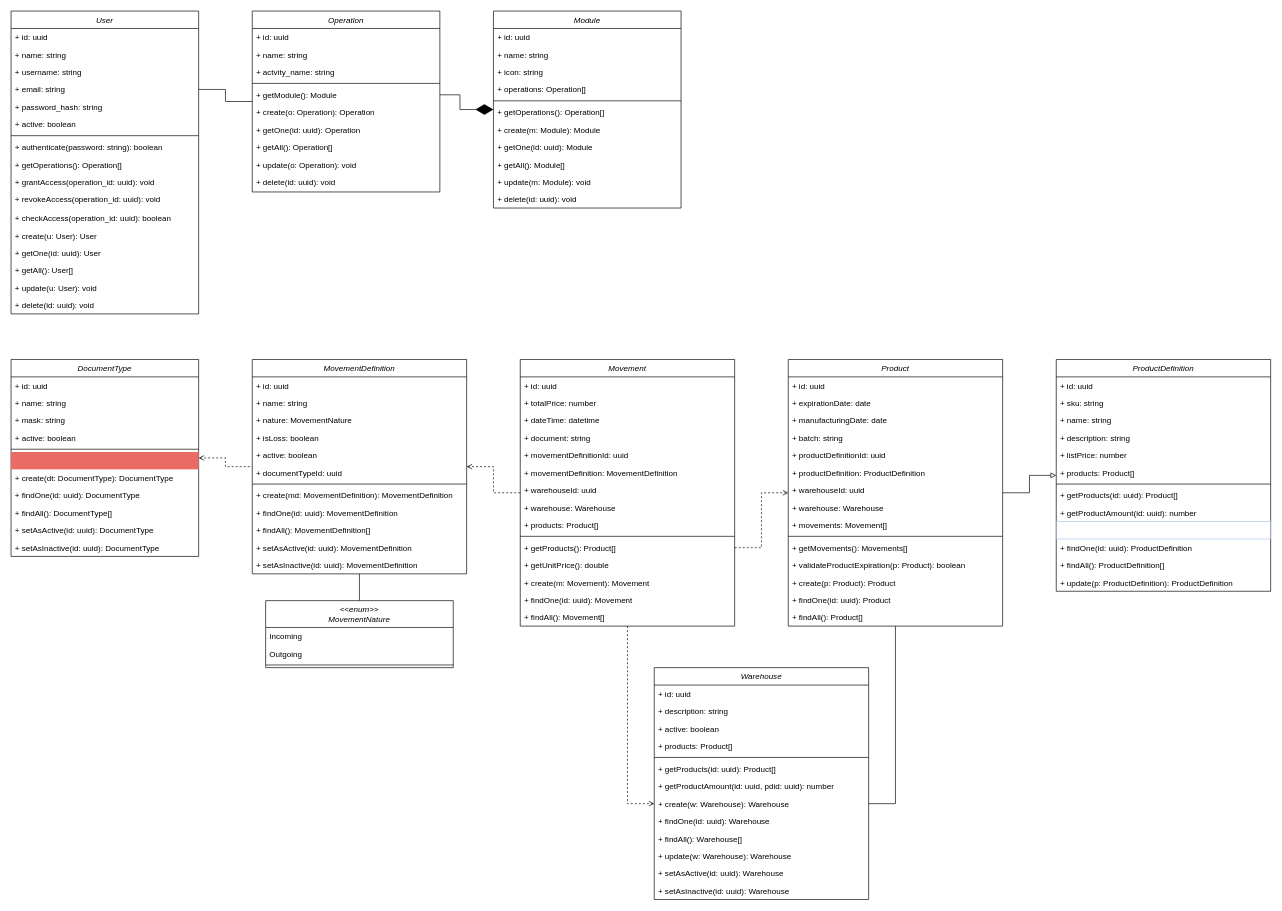
Some shapes in this 1282 by 911 pixel diagram are drawn without their labels. Each missing label, with the centre of its shape:
"+ create(pd: ProductDefinition): ProductDefinition" belongs at (1163,530).
"- validateDocumentMask(): boolean" belongs at (104,460).
